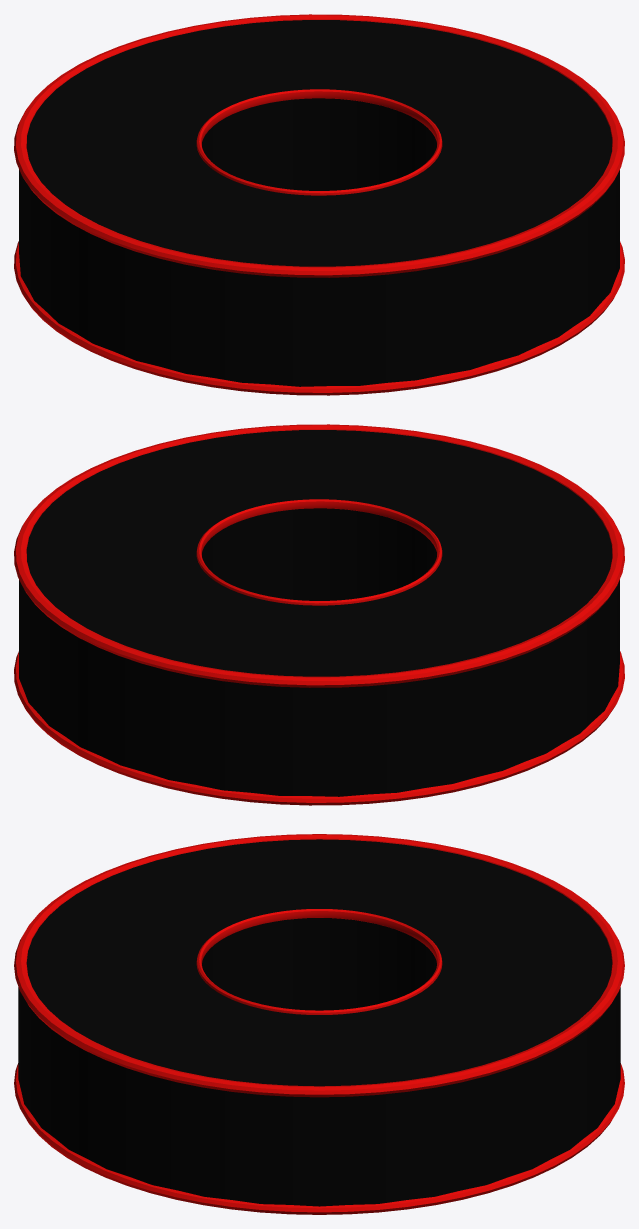
The model's file is OPiece.fbx.
The picture shows the model from 3 angles, top to bottom: view 1: azimuth 30°, elevation 25°; view 2: azimuth 150°, elevation 25°; view 3: azimuth 270°, elevation 25°; orthographic projection.
Visible parts, largest first — view 1: Cylinder; view 2: Cylinder; view 3: Cylinder.
Boxes of the visible parts, x1=… form: Cylinder: x1=14, y1=14, x2=624, y2=395; Cylinder: x1=14, y1=424, x2=624, y2=805; Cylinder: x1=14, y1=834, x2=624, y2=1214.
Bounding box in the file's own units: 203 × 47 × 203.
